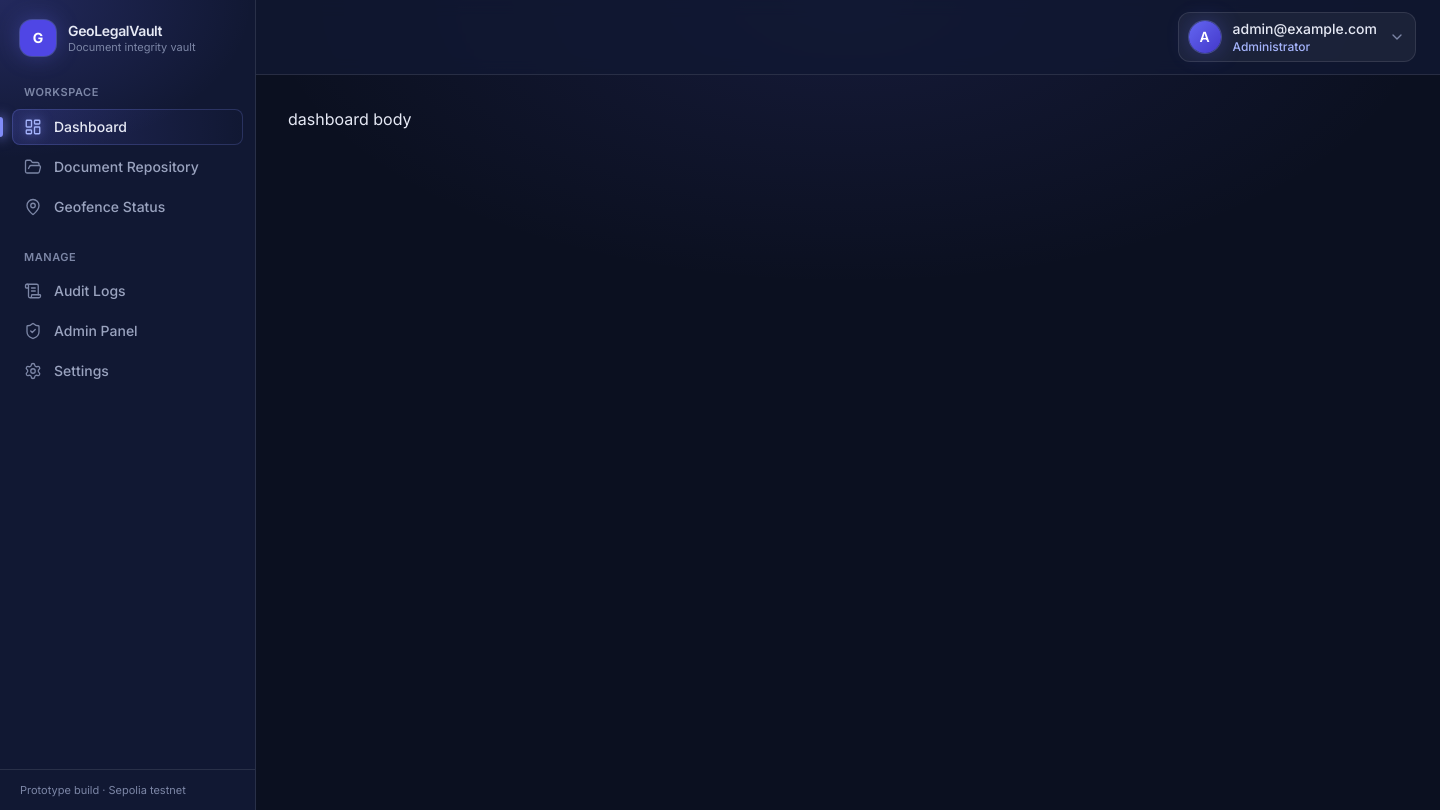
Test: Layout header + sidebar › closes the menu on Escape
The width and height of the screenshot is (1440, 810).
Click the button "A admin@example.com Administrator" at (1297, 37), box left=1178, top=12, right=1416, bottom=62
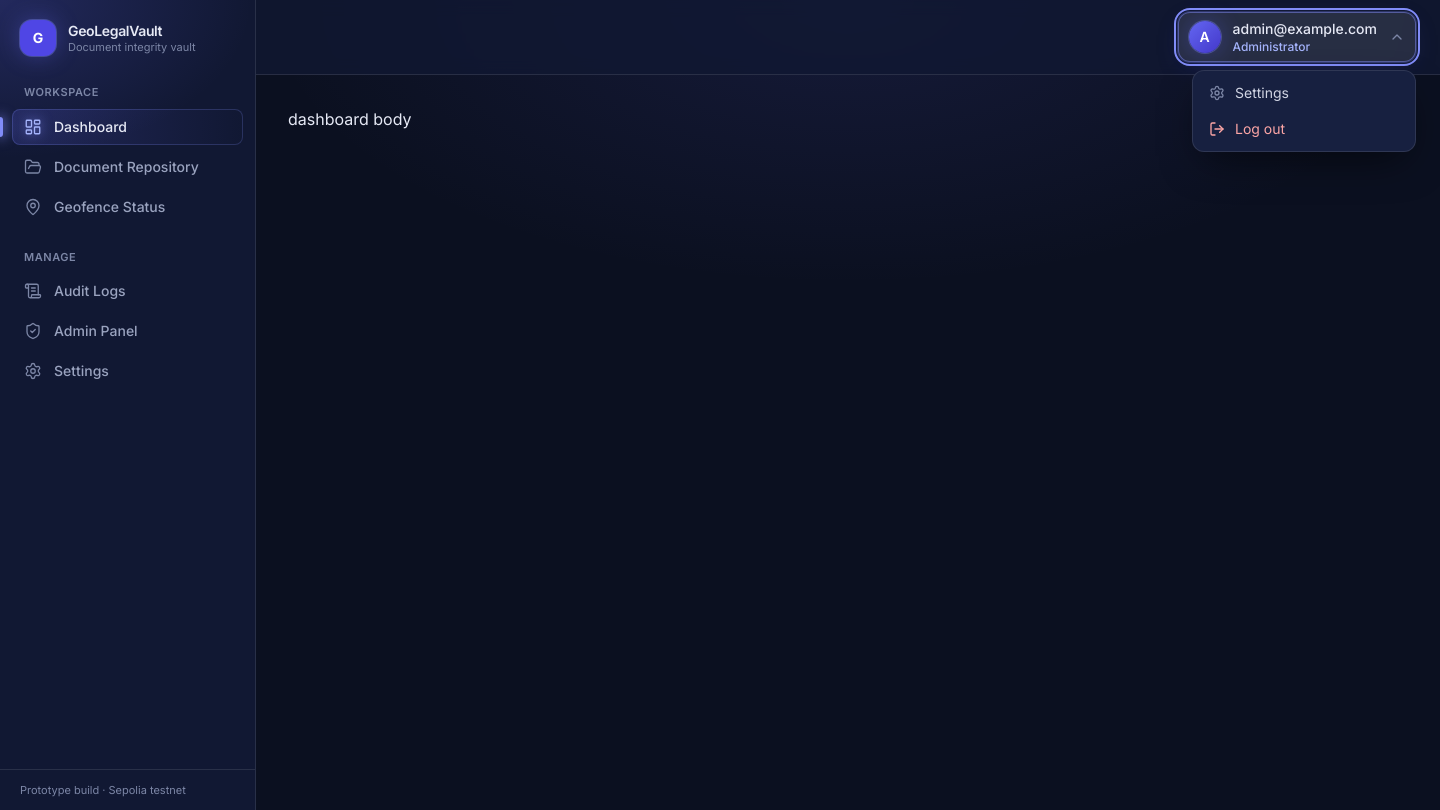
Now the menu is shown, box left=1192, top=70, right=1416, bottom=152
Press Escape
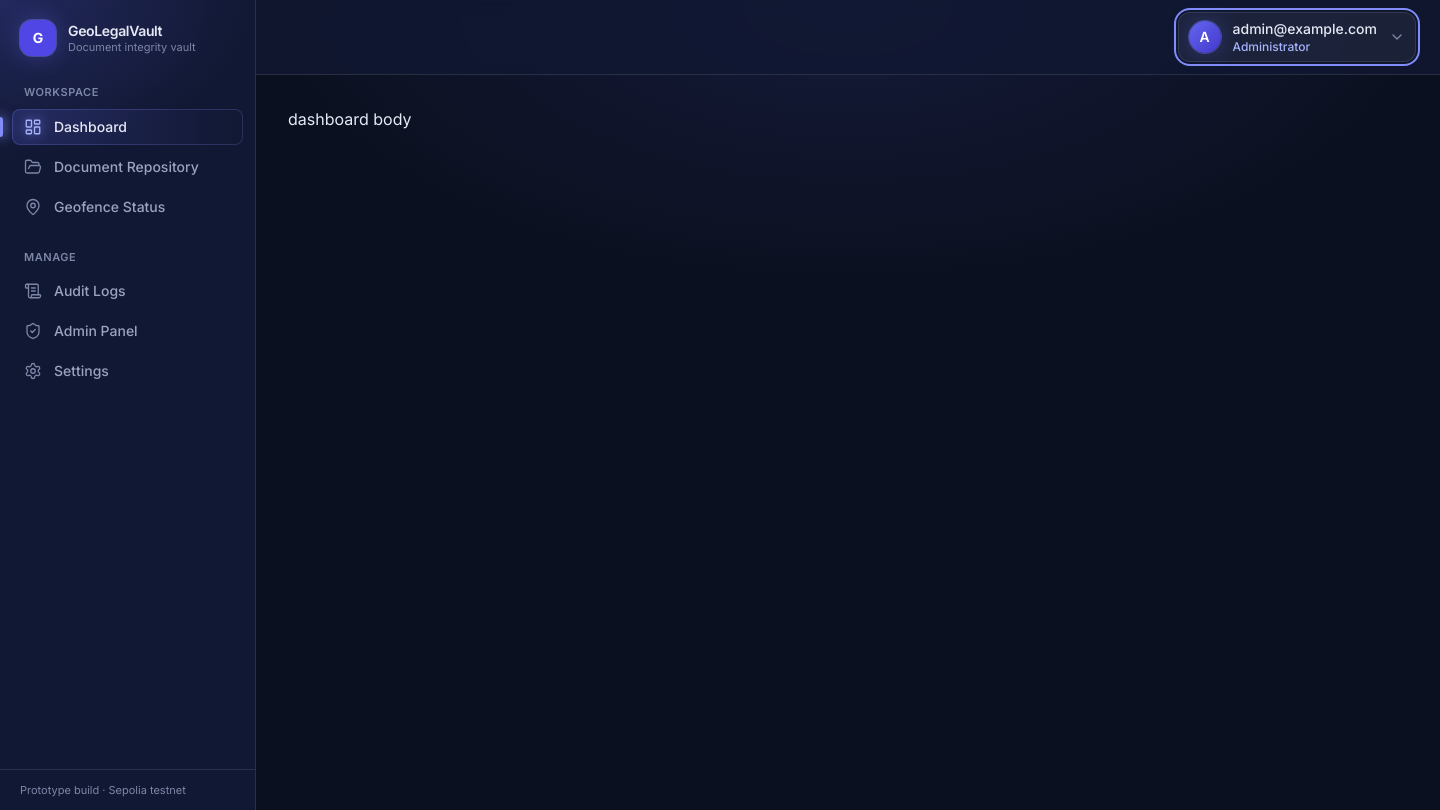
Now the menu is gone
